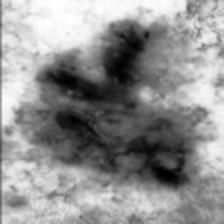Potentially Malignant Skin Tumors: (17, 19, 206, 189)
